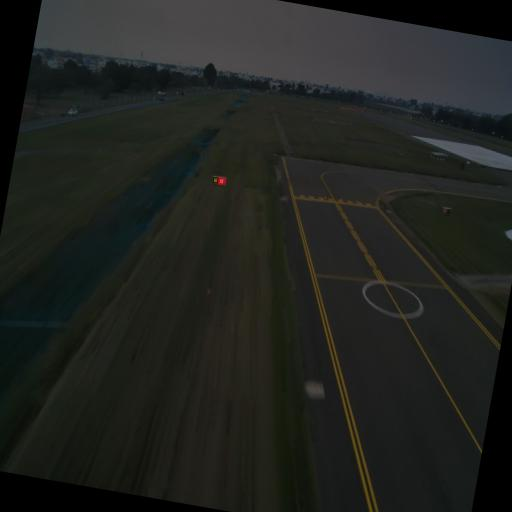on: (322, 194, 328, 199), (339, 196, 342, 202), (355, 198, 358, 202)
